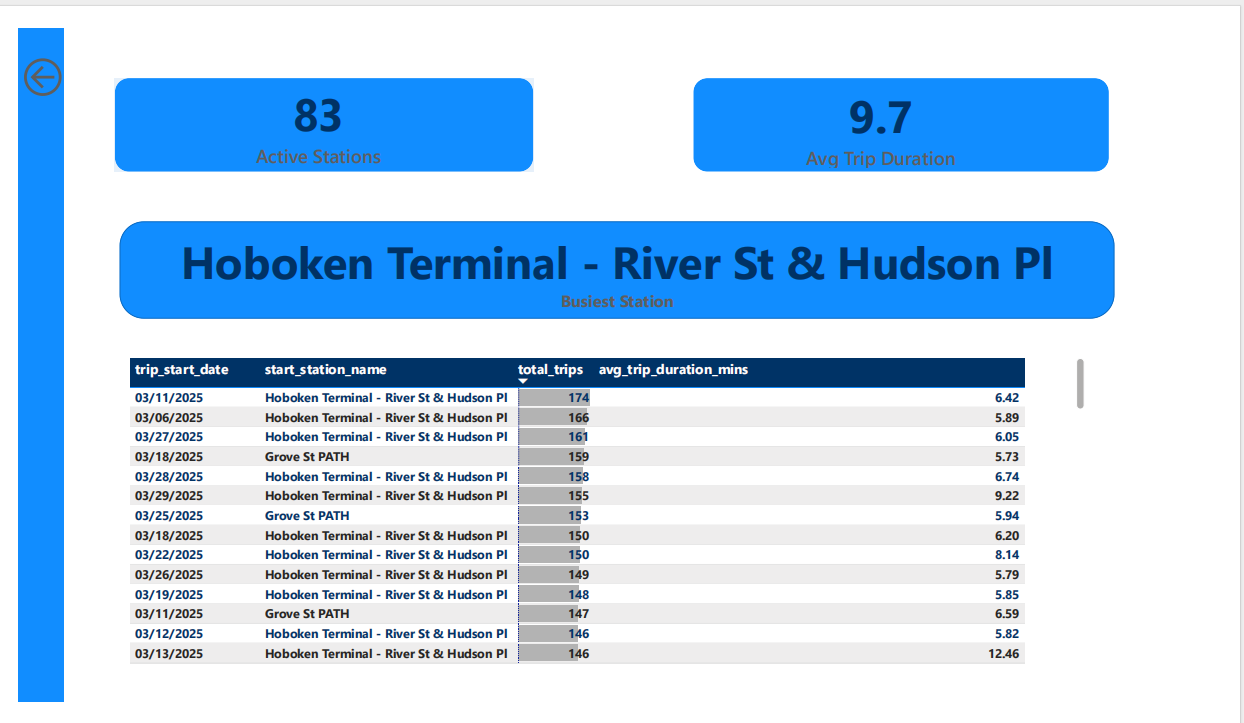

What the dashboard file says about the page in this screenshot:
{"tool":"powerbi","page":{"name":"Daily Station Perfromance dashboard","canvas":[1280,720],"ordinal":1},"visuals":[{"type":"shape","box":[102.8,52.8,447.2,100],"z":0},{"type":"shape","box":[720.8,52.8,444.4,100],"z":1000},{"type":"shape","box":[0,0,48.6,719.4],"z":2000},{"type":"card","fields":{"Values":["Measure Table for station performance.Avg_Trip_Duration"]},"box":[700,56.9,444.4,95.8],"z":3000},{"type":"card","fields":{"Values":["Measure Table for station performance.Active_Stations"]},"box":[102.8,52.8,436.1,100],"z":4000},{"type":"shape","box":[108.3,205.6,1062.5,104.2],"z":5000},{"type":"card","fields":{"Values":["Measure Table for station performance.Busiest_Station"]},"box":[137.5,211.1,1005.6,94.4],"z":6000},{"type":"tableEx","fields":{"Values":["daily station performance.trip_start_date","daily station performance.start_station_name","daily station performance.total_trips","daily station performance.avg_trip_duration_mins"]},"box":[113.9,347.2,1030.6,336.1],"z":7000},{"type":"actionButton","box":[0,26.4,75,51.4],"z":7001}]}

Visuals, with their boxes in screenshot pixels (x1, y1, x2, y2):
shape: {"left": 111, "top": 70, "right": 540, "bottom": 166}
shape: {"left": 704, "top": 70, "right": 1130, "bottom": 166}
shape: {"left": 13, "top": 19, "right": 60, "bottom": 709}
card - Measure Table for station performance.Avg_Trip_Duration: {"left": 684, "top": 74, "right": 1110, "bottom": 166}
card - Measure Table for station performance.Active_Stations: {"left": 111, "top": 70, "right": 529, "bottom": 166}
shape: {"left": 117, "top": 216, "right": 1135, "bottom": 316}
card - Measure Table for station performance.Busiest_Station: {"left": 145, "top": 222, "right": 1109, "bottom": 312}
tableEx - daily station performance.trip_start_date x daily station performance.start_station_name: {"left": 122, "top": 352, "right": 1110, "bottom": 674}
actionButton: {"left": 13, "top": 45, "right": 85, "bottom": 94}
